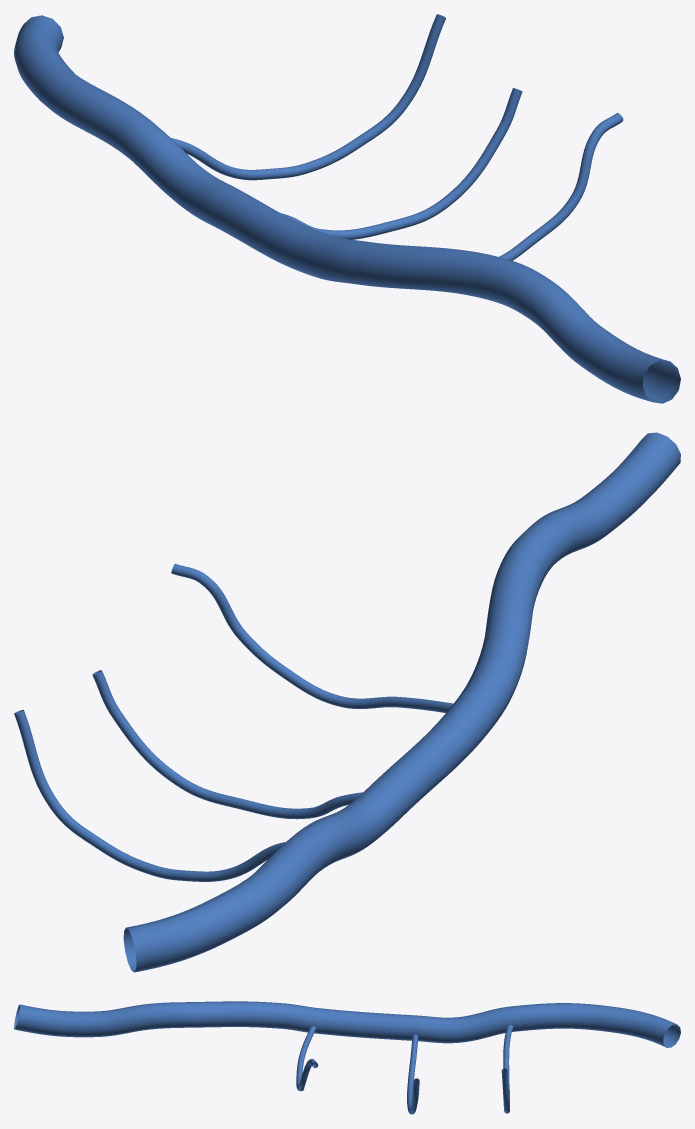
3 renders of one model, top to bottom at view 1: azimuth 30°, elevation 25°; view 2: azimuth 150°, elevation 25°; view 3: azimuth 270°, elevation 25°, orthographic. The views are drawn at different scales.
Parts seen in each view (by area): view 1: 右腰升静脉; view 2: 右腰升静脉; view 3: 右腰升静脉.
Part boxes in pixels (x1,y1,x2,y2): 右腰升静脉: (14, 14, 680, 403); 右腰升静脉: (14, 432, 680, 972); 右腰升静脉: (14, 1001, 680, 1114).
Bounding box in the file's own units: 0.0779 × 0.032 × 0.2299.
